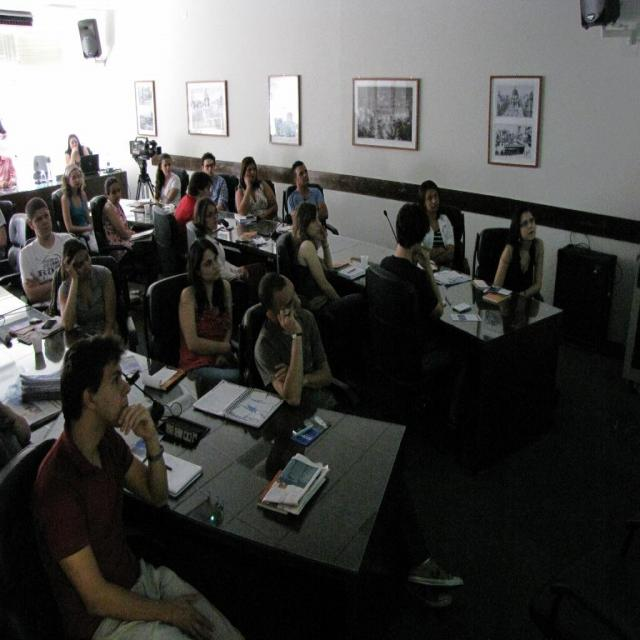chair: (364, 262, 450, 426), (1, 438, 65, 639), (143, 272, 191, 370), (472, 228, 510, 284)
desk: (0, 276, 404, 575)
person: (33, 336, 241, 640), (252, 274, 356, 412), (178, 238, 239, 379), (380, 203, 444, 322), (55, 238, 118, 348), (19, 196, 73, 314), (491, 209, 543, 298), (418, 179, 458, 272), (0, 401, 32, 471)
